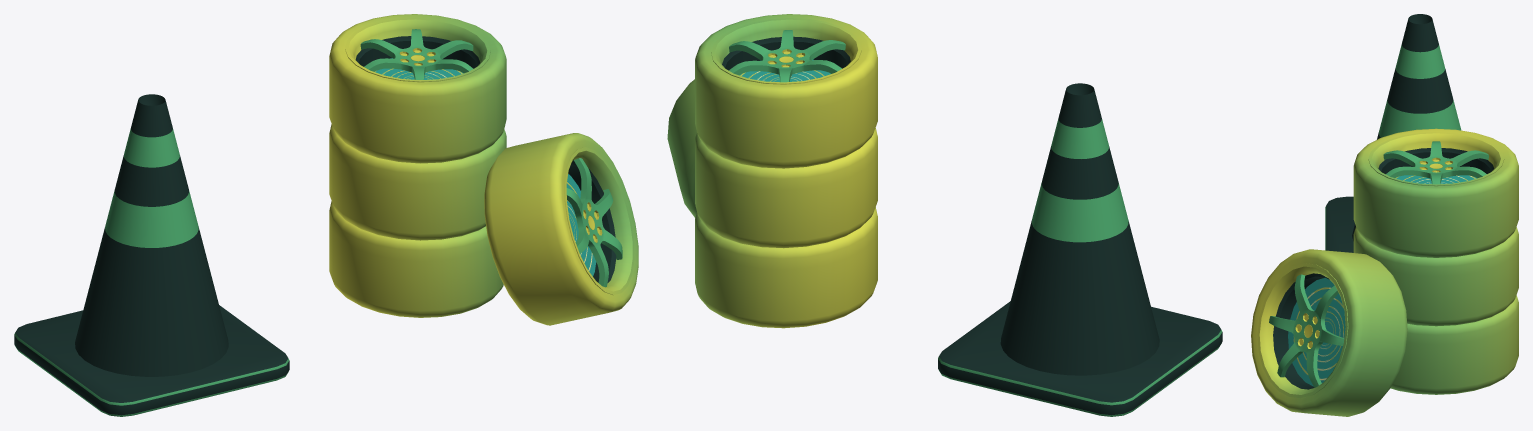
The model's file is obstaculos_carreras.fbx.
3 views of the same model, side by side, from view 1: azimuth 30°, elevation 25°; view 2: azimuth 150°, elevation 25°; view 3: azimuth 270°, elevation 25° (orthographic). The views are drawn at different scales.
Parts seen in each view (by area): view 1: pneumaticos, cono; view 2: pneumaticos, cono; view 3: pneumaticos, cono.
Part boxes in pixels (left/top/right/bottom): pneumaticos: left=329, top=14, right=638, bottom=325; cono: left=14, top=94, right=289, bottom=416; pneumaticos: left=667, top=14, right=877, bottom=328; cono: left=938, top=83, right=1222, bottom=416; pneumaticos: left=1251, top=128, right=1518, bottom=416; cono: left=1325, top=14, right=1461, bottom=252.
Size of the model in its own units: 2.08 by 1 by 1.03.
